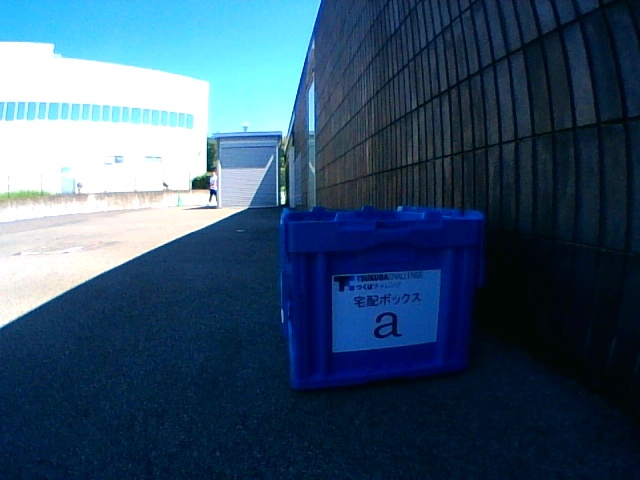blue_box: (279, 206, 483, 388)
tag_a: (338, 279, 432, 341)
